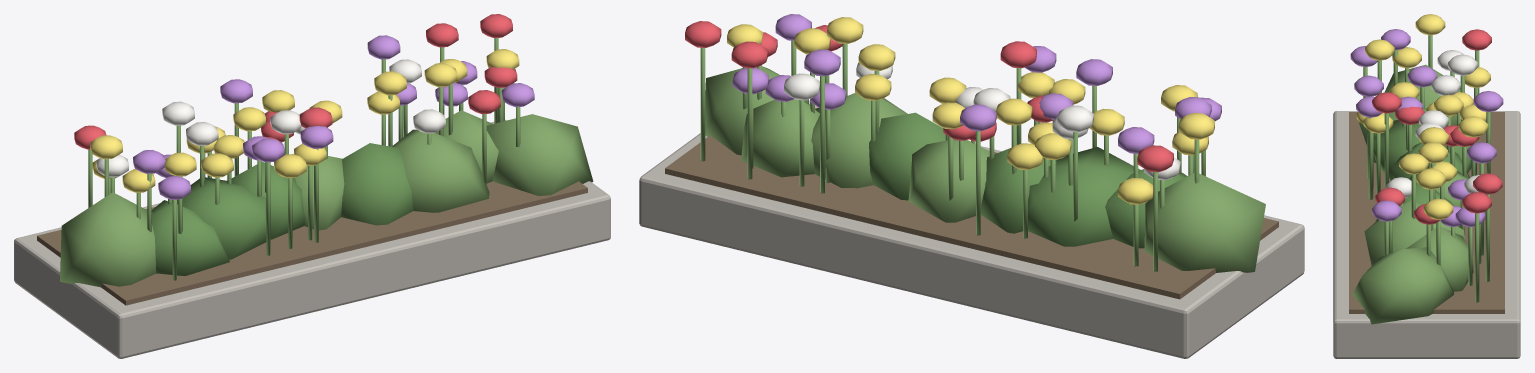
Rendered from flower_bed.glb.
3 views of the same model, side by side, from view 1: azimuth 30°, elevation 25°; view 2: azimuth 150°, elevation 25°; view 3: azimuth 270°, elevation 25° (orthographic). The views are drawn at different scales.
Visible parts, largest first — view 1: Bed; view 2: Bed; view 3: Bed.
Part boxes in pixels (box(x1,y1,x2,y2)): Bed: box(14, 14, 610, 358); Bed: box(639, 14, 1304, 358); Bed: box(1333, 14, 1520, 358).
Size of the model in its own units: 1.64 by 0.5459 by 0.6.
